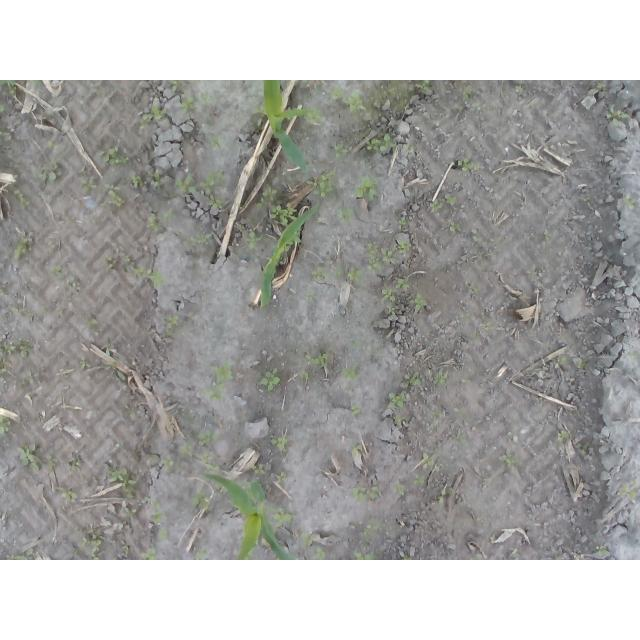Maize: (201, 472, 299, 561), (260, 204, 321, 309), (264, 80, 309, 172)
Weeds: (103, 463, 138, 500), (74, 528, 105, 560), (308, 170, 337, 198), (16, 441, 42, 471), (96, 146, 133, 166), (353, 174, 380, 200), (365, 134, 396, 155), (139, 104, 166, 128), (0, 339, 34, 358), (271, 203, 298, 226), (364, 243, 382, 277), (144, 496, 165, 524), (13, 230, 33, 259), (7, 183, 29, 209), (256, 368, 280, 391), (351, 486, 381, 504), (37, 161, 63, 181), (104, 184, 126, 207), (102, 360, 126, 381), (268, 507, 294, 526), (174, 172, 198, 192), (606, 105, 630, 125), (210, 362, 234, 382), (200, 167, 225, 186), (151, 453, 176, 472), (343, 93, 367, 112), (205, 187, 224, 209), (193, 489, 212, 511), (421, 453, 443, 472), (280, 232, 300, 252), (6, 548, 35, 561), (202, 384, 224, 401), (197, 429, 220, 445), (0, 81, 24, 96), (253, 103, 268, 127), (472, 234, 501, 246), (56, 487, 79, 502), (337, 207, 355, 226), (409, 294, 429, 311), (149, 171, 167, 189), (131, 265, 153, 279), (150, 271, 166, 290), (305, 108, 324, 124), (66, 453, 82, 472), (389, 392, 408, 408), (618, 485, 639, 499), (380, 248, 397, 265), (245, 231, 261, 249), (79, 178, 97, 194), (306, 353, 328, 366), (458, 157, 478, 171), (117, 506, 137, 520), (310, 267, 330, 281), (271, 436, 289, 451), (129, 172, 144, 189), (45, 455, 60, 472), (342, 367, 359, 382), (393, 239, 411, 253), (209, 135, 227, 149), (429, 411, 443, 429), (301, 532, 316, 548), (181, 442, 196, 458), (439, 487, 454, 503), (334, 142, 348, 159), (140, 546, 157, 560), (182, 96, 195, 114), (353, 550, 376, 560), (406, 372, 422, 386), (381, 288, 397, 302), (347, 266, 361, 282), (328, 88, 345, 101), (263, 187, 278, 201), (51, 265, 65, 280), (433, 371, 448, 385), (1, 415, 12, 434), (242, 482, 254, 499), (624, 194, 636, 211), (498, 455, 518, 465), (525, 265, 539, 279), (168, 314, 181, 329), (160, 209, 175, 222), (364, 524, 380, 536), (430, 199, 443, 213), (23, 370, 37, 383), (442, 193, 457, 205), (194, 233, 212, 243), (199, 452, 214, 464), (102, 256, 115, 269), (395, 276, 409, 288), (157, 527, 169, 541), (206, 464, 220, 476), (392, 481, 404, 495), (416, 81, 431, 92), (252, 464, 267, 475), (149, 214, 159, 230), (45, 240, 58, 252), (350, 444, 362, 457), (199, 91, 210, 105), (123, 404, 137, 415), (463, 87, 473, 102), (86, 317, 98, 329), (312, 548, 324, 560), (554, 356, 566, 368), (413, 474, 426, 485), (579, 442, 590, 455), (195, 549, 209, 559), (595, 545, 609, 555), (110, 243, 124, 253), (479, 322, 494, 331), (448, 221, 460, 232), (556, 431, 568, 442), (171, 80, 181, 93), (399, 550, 412, 560), (255, 197, 266, 208), (455, 103, 466, 114), (101, 344, 111, 356), (69, 275, 79, 287), (276, 472, 286, 484), (351, 404, 361, 416), (214, 482, 227, 491), (386, 305, 397, 315), (121, 545, 132, 555), (79, 359, 90, 369), (306, 291, 316, 302), (92, 88, 104, 97), (474, 102, 486, 111), (398, 216, 406, 229), (454, 408, 467, 416), (0, 358, 6, 375), (349, 341, 362, 348), (468, 285, 478, 294), (544, 230, 552, 240), (578, 360, 587, 368), (28, 80, 42, 85), (595, 83, 605, 90), (471, 554, 482, 560), (46, 140, 54, 148), (514, 84, 522, 92), (334, 269, 342, 277), (300, 373, 309, 380), (395, 415, 405, 421), (10, 307, 18, 314), (459, 435, 467, 442), (0, 132, 10, 137), (471, 332, 478, 339), (124, 257, 132, 263), (462, 313, 471, 318), (239, 225, 245, 232), (407, 145, 413, 152), (344, 386, 350, 393), (0, 103, 4, 113), (274, 554, 280, 560), (584, 197, 591, 202), (630, 352, 638, 356), (302, 81, 309, 84)
